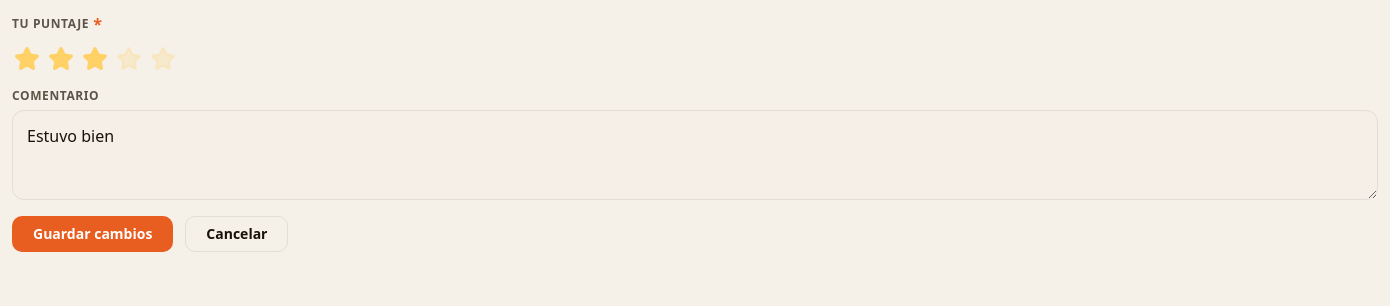
EditRatingForm › shows a generic message when the rating no longer exists
Click the button named "4 estrellas": (129, 59) [114, 44, 144, 74]
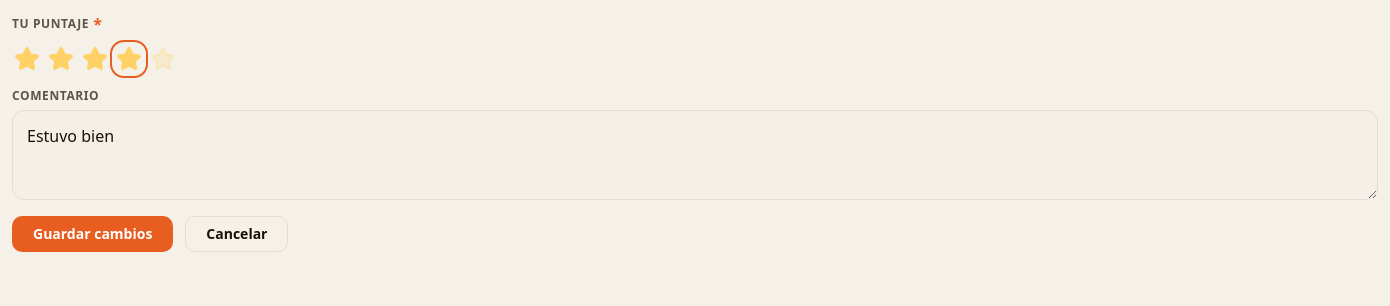
Click the button "Guardar cambios": (93, 234) [12, 216, 173, 252]
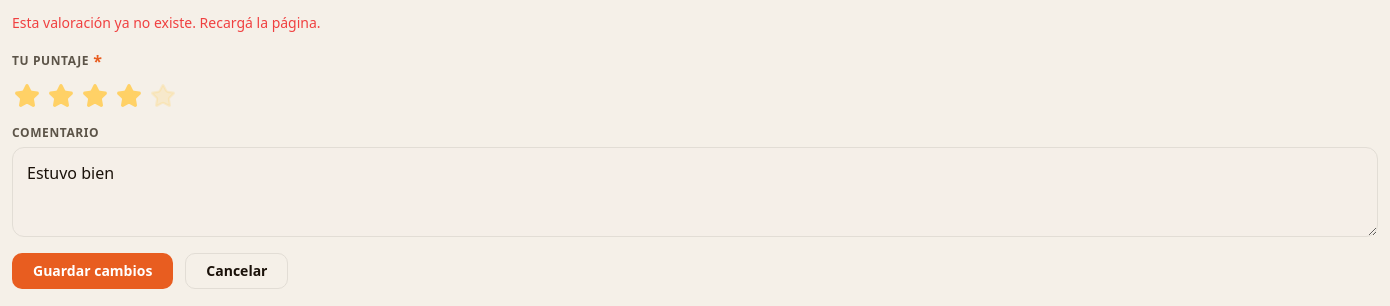
Expected: the text "Esta valoración ya no existe. Recargá la página." is shown, [12, 13, 321, 32]
